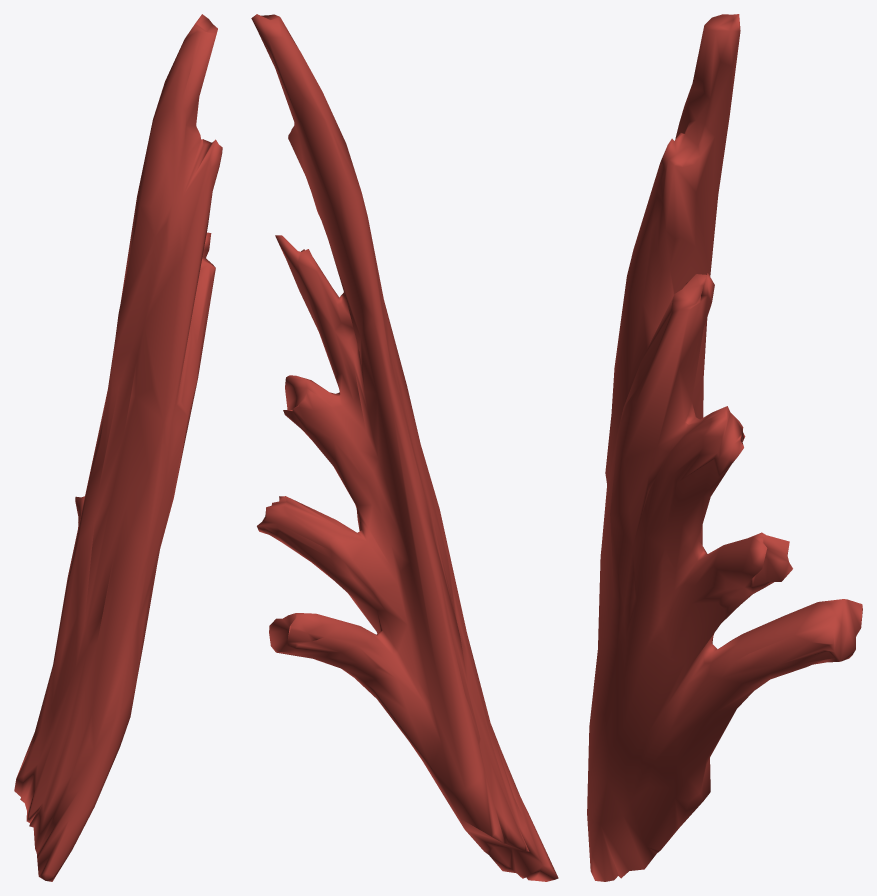
The model's file is musculos-scalenus-medius-muscle-r.glb.
The picture shows the model from 3 angles, left to right: view 1: azimuth 30°, elevation 25°; view 2: azimuth 150°, elevation 25°; view 3: azimuth 270°, elevation 25°; orthographic projection. The views are drawn at different scales.
Visible parts, largest first — view 1: Scalenus medius muscle.r; view 2: Scalenus medius muscle.r; view 3: Scalenus medius muscle.r.
Part boxes in pixels (box(x1,y1,x2,y2)): Scalenus medius muscle.r: box(14, 14, 222, 881); Scalenus medius muscle.r: box(251, 14, 558, 881); Scalenus medius muscle.r: box(587, 14, 862, 881).
Bounding box in the file's own units: 0.0302 × 0.0992 × 0.0249.
